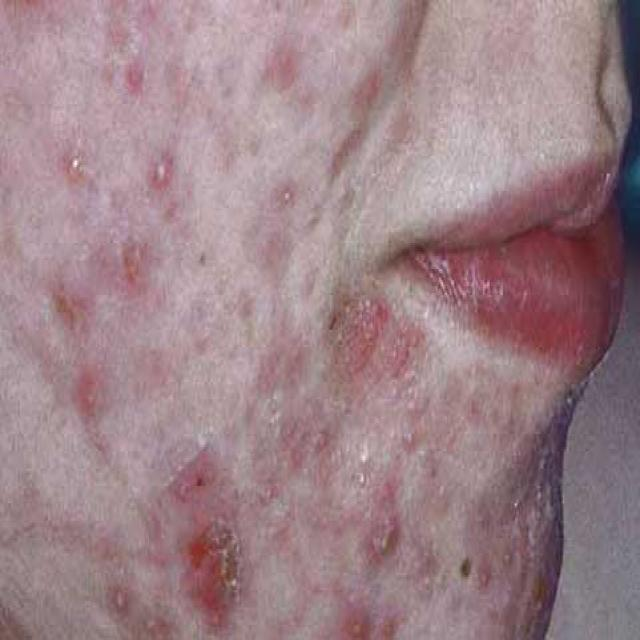Acne: (332, 292, 430, 492), (173, 432, 269, 630), (432, 373, 564, 488), (452, 496, 554, 634), (246, 234, 318, 393), (42, 264, 106, 428), (98, 538, 175, 638), (136, 191, 214, 278), (276, 394, 336, 504), (323, 6, 390, 104), (338, 566, 409, 640), (272, 30, 324, 106), (102, 233, 145, 309), (330, 125, 380, 183), (66, 143, 98, 219), (366, 494, 396, 564), (264, 172, 296, 220), (150, 134, 177, 182), (120, 46, 142, 102)
